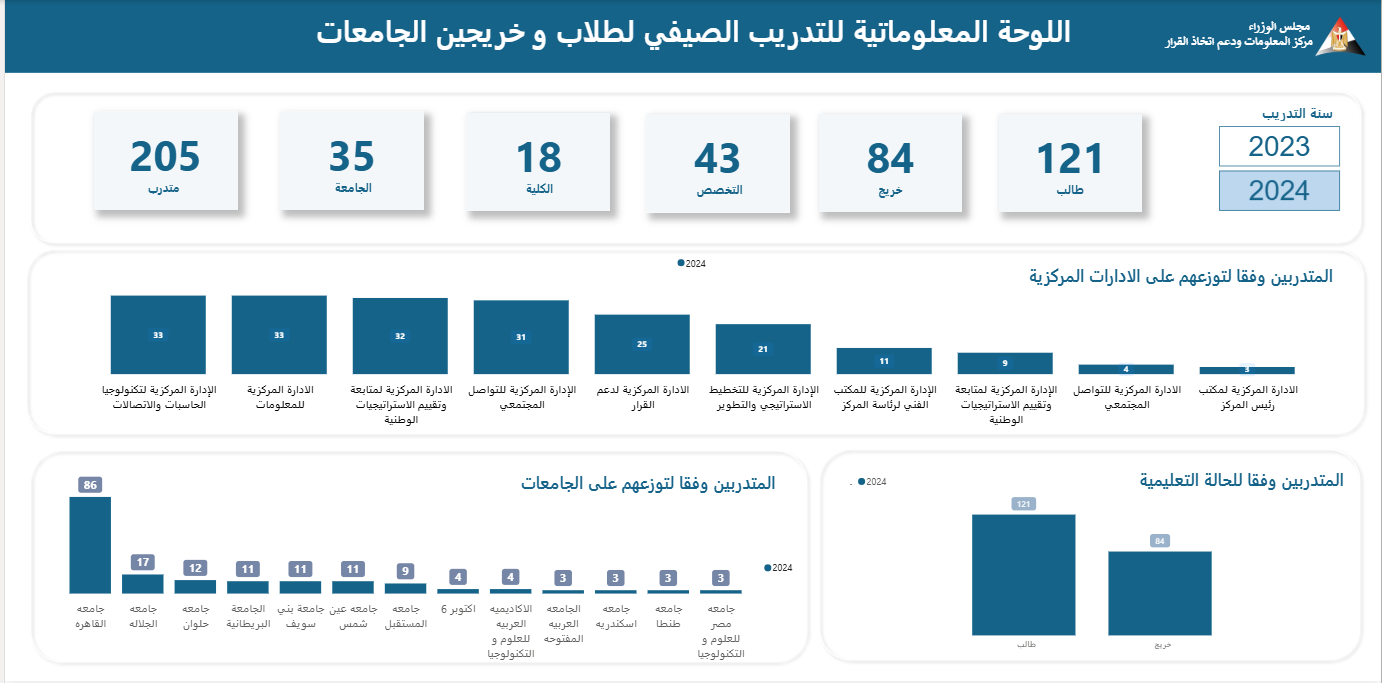

The page's visual inventory and layout, read from the dashboard file:
{"tool":"powerbi","page":{"name":" home","canvas":[1980,980],"ordinal":0},"visuals":[{"type":"shape","box":[27,122.3,1933.2,235.6],"z":0},{"type":"shape","title":"سنة التدريب","box":[1162.8,637.3,796.7,321.9],"z":1000},{"type":"shape","box":[0,0,1980,105],"z":2000},{"type":"image","box":[1863.1,9,116.9,86.3],"z":3000},{"type":"textbox","box":[1647.3,21.6,239.2,84.5],"z":4000},{"type":"textbox","box":[428,9,1125.8,95.3],"z":5000},{"type":"card","fields":{"Values":["CountNonNull(2023 (2).م)"]},"box":[127.8,159.9,206.8,142.1],"z":6000},{"type":"card","fields":{"Values":["Count(2023 (2).الجامعة)"]},"box":[395.7,159.9,206.8,142.1],"z":7000},{"type":"card","fields":{"Values":["Count(2023 (2).الكلية)"]},"box":[663.7,161.7,206.8,142.1],"z":8000},{"type":"card","fields":{"Values":["Count(2023 (2).التخصص)"]},"box":[922.7,163.5,206.8,142.1],"z":9000},{"type":"card","fields":{"Values":["CountNonNull(2023 (2).طالب/ خريج)"]},"box":[1170.9,162.9,206.3,141.7],"z":10000},{"type":"card","fields":{"Values":["CountNonNull(2023 (2).طالب/ خريج)"]},"box":[1429.3,163.7,206.3,141.7],"z":11000},{"type":"shape","box":[26.7,637.9,1135.9,323.1],"z":12000},{"type":"columnChart","fields":{"Category":["2023 (2).الجامعة"],"Y":["CountNonNull(2023 (2).م)"],"Series":["2023 (2).سنة التدريب"]},"box":[47.6,673.3,1100.5,287.6],"z":13000},{"type":"textbox","box":[581.1,673.3,539.8,68.8],"z":14000},{"type":"clusteredColumnChart","fields":{"Category":["2023 (2).طالب/ خريج"],"Series":["2023 (2).سنة التدريب"],"Y":["CountNonNull(2023 (2).م)"]},"box":[1211.4,673.3,715.7,271.6],"z":15000},{"type":"textbox","box":[1412.8,669.7,519.7,71.9],"z":16000},{"type":"shape","box":[21.6,348.9,1942.2,284.1],"z":17000},{"type":"columnChart","fields":{"Category":["2023 (2).الإدارة المركزية"],"Y":["CountNonNull(2023 (2).م)"],"Series":["2023 (2).سنة التدريب"]},"box":[46.8,357.9,1886.5,264.4],"z":18000},{"type":"textbox","box":[1402.7,375.9,519.7,71.9],"z":19000},{"type":"ChicletSlicer1448559807354","title":"سنة التدريب","fields":{"Category":["2023 (2).سنة التدريب"]},"box":[1739,147.5,241,187],"z":20000}]}

Visuals, with their boxes in screenshot pixels (x1, y1, x2, y2), scaled from the page's 1980x980 canvas onto the 1382x683 screenshot:
shape: Rect(19, 85, 1368, 249)
"سنة التدريب" shape: Rect(812, 444, 1368, 669)
shape: Rect(0, 0, 1381, 73)
image: Rect(1300, 6, 1381, 66)
textbox: Rect(1150, 15, 1317, 74)
textbox: Rect(299, 6, 1085, 73)
card - CountNonNull(2023 (2).م): Rect(89, 111, 234, 210)
card - Count(2023 (2).الجامعة): Rect(276, 111, 421, 210)
card - Count(2023 (2).الكلية): Rect(463, 113, 608, 212)
card - Count(2023 (2).التخصص): Rect(644, 114, 788, 213)
card - CountNonNull(2023 (2).طالب/ خريج): Rect(817, 114, 961, 212)
card - CountNonNull(2023 (2).طالب/ خريج): Rect(998, 114, 1142, 213)
shape: Rect(19, 445, 811, 670)
columnChart - 2023 (2).الجامعة x CountNonNull(2023 (2).م): Rect(33, 469, 801, 670)
textbox: Rect(406, 469, 782, 517)
clusteredColumnChart - 2023 (2).طالب/ خريج x 2023 (2).سنة التدريب: Rect(846, 469, 1345, 659)
textbox: Rect(986, 467, 1349, 517)
shape: Rect(15, 243, 1371, 441)
columnChart - 2023 (2).الإدارة المركزية x CountNonNull(2023 (2).م): Rect(33, 249, 1349, 434)
textbox: Rect(979, 262, 1342, 312)
"سنة التدريب" ChicletSlicer1448559807354: Rect(1214, 103, 1381, 233)
